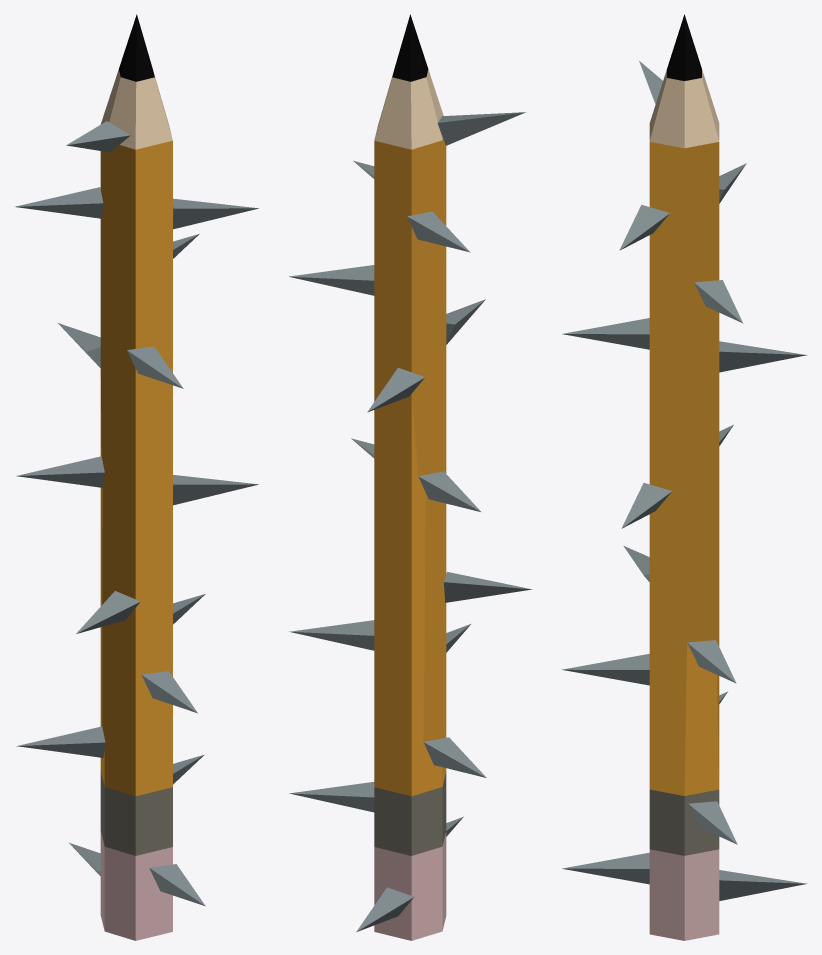
File: S Pencil.fbx
3 views of the same model, side by side, from view 1: azimuth 30°, elevation 25°; view 2: azimuth 150°, elevation 25°; view 3: azimuth 270°, elevation 25° (orthographic).
Parts seen in each view (by area): view 1: Spiked Pencil; view 2: Spiked Pencil; view 3: Spiked Pencil.
Boxes of the visible parts, x1,y1,x2,y2 form: Spiked Pencil: (14, 14, 258, 940); Spiked Pencil: (289, 14, 532, 940); Spiked Pencil: (562, 14, 807, 940).
Size of the model in its own units: 41.14 by 184 by 45.1.
